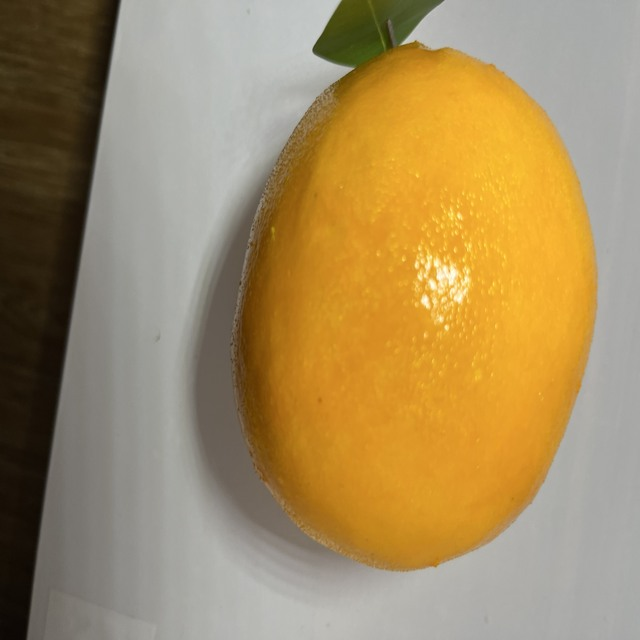Cam vang: (223, 47, 601, 572)
